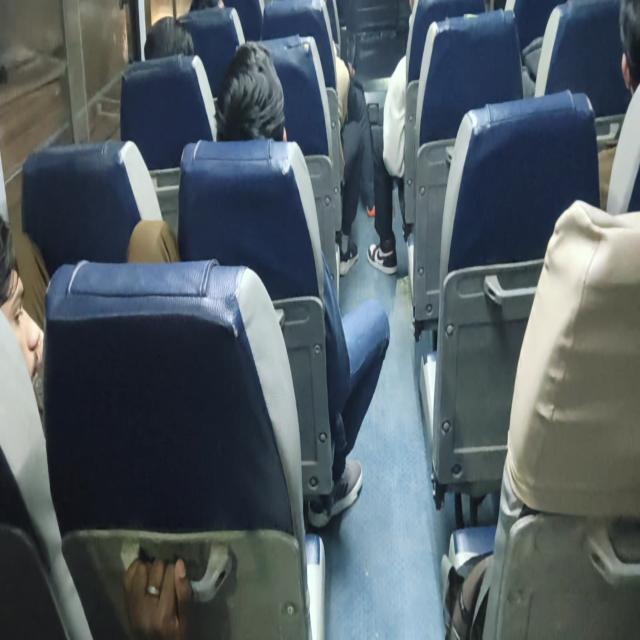person: (227, 59, 293, 143), (592, 3, 640, 106), (139, 11, 204, 66)
